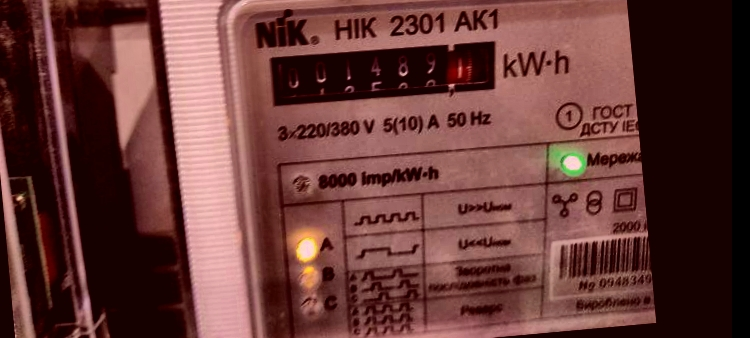0: (310, 56, 328, 83), (283, 63, 301, 89)
1: (339, 53, 355, 83), (451, 49, 466, 80)
4: (366, 51, 384, 79)
8: (392, 49, 411, 77)
9: (421, 48, 438, 75)
screen: (253, 24, 515, 123)
